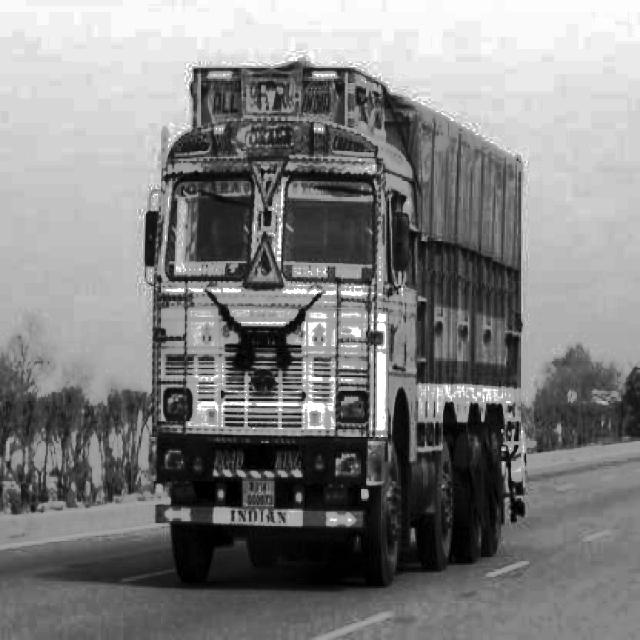HCV: (160, 77, 524, 601)
